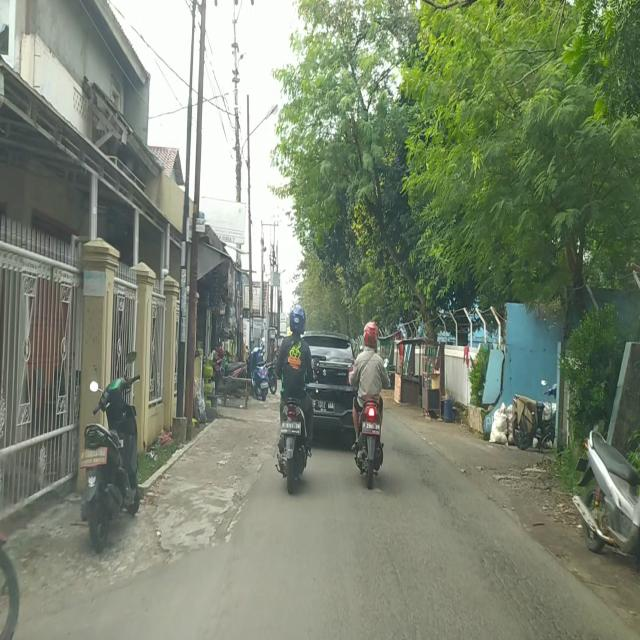Drain Hole: (440, 501, 564, 636)
